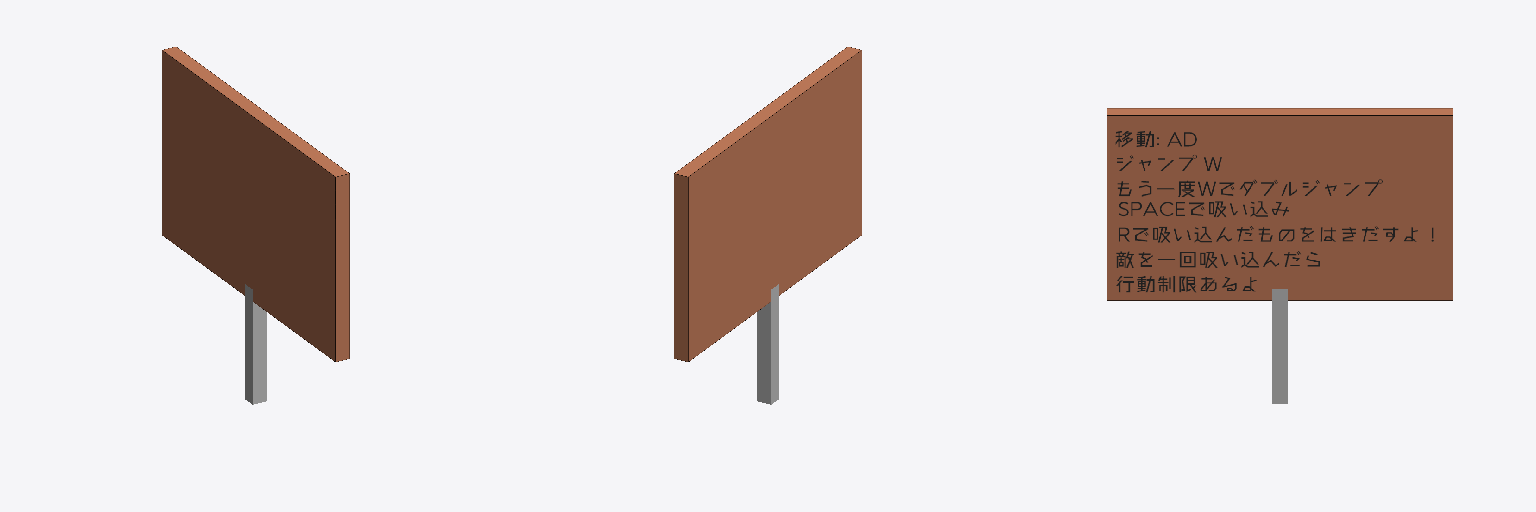
3 views of the same model, side by side, from view 1: azimuth 30°, elevation 25°; view 2: azimuth 150°, elevation 25°; view 3: azimuth 270°, elevation 25° (orthographic).
Parts seen in each view (by area): view 1: 立方体; view 2: 立方体; view 3: 立方体.
Part boxes in pixels (left/top/right/bottom): 立方体: left=162, top=47, right=349, bottom=404; 立方体: left=674, top=47, right=861, bottom=404; 立方体: left=1107, top=108, right=1452, bottom=403.
Size of the model in its own units: 0.2596 by 5.01 by 5.46.
2 materials, 1 textured.